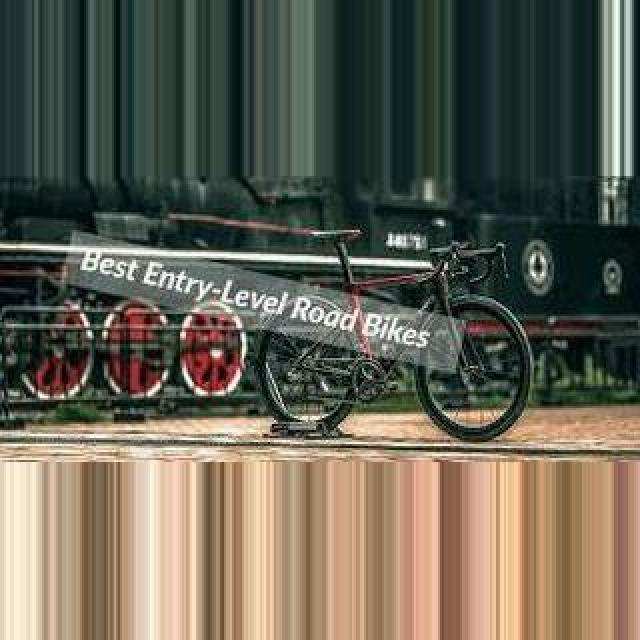Person: (249, 231, 533, 443)
